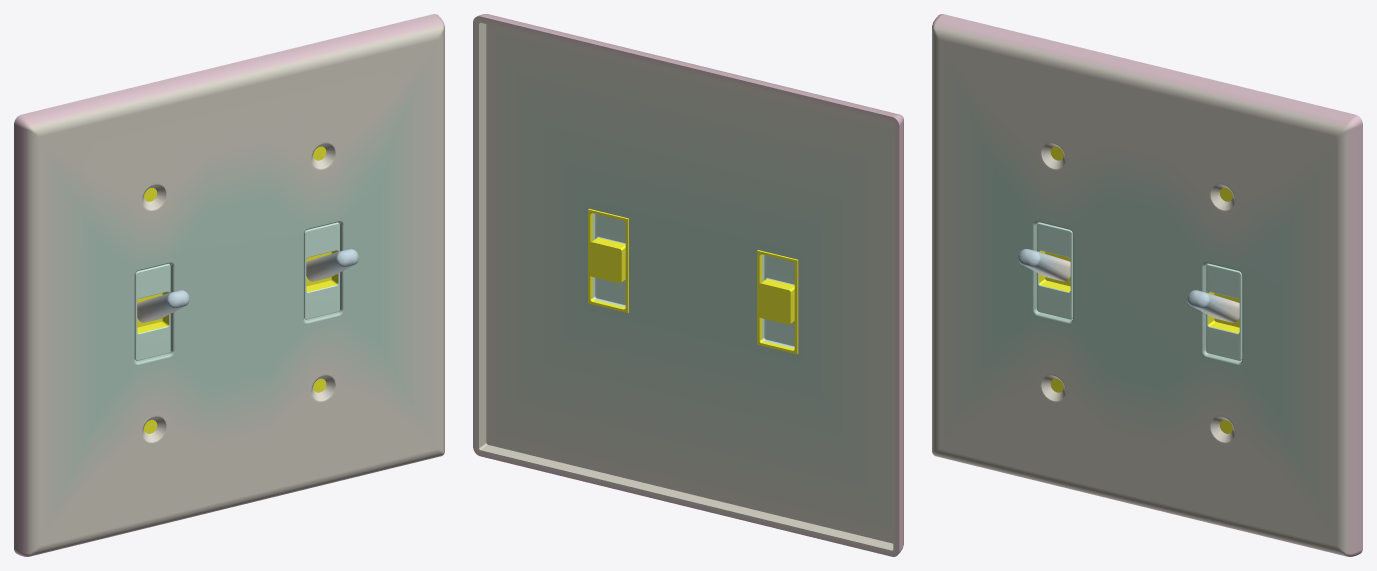
File: Kit_OutletToggle2.fbx
The picture shows the model from 3 angles, left to right: view 1: azimuth 30°, elevation 25°; view 2: azimuth 150°, elevation 25°; view 3: azimuth 330°, elevation 25°; orthographic projection.
Parts seen in each view (by area): view 1: Kit_OutletToggle2_LOD0; view 2: Kit_OutletToggle2_LOD0; view 3: Kit_OutletToggle2_LOD0.
Boxes of the visible parts, x1,y1,x2,y2 form: Kit_OutletToggle2_LOD0: (14,14,444,556); Kit_OutletToggle2_LOD0: (473,14,903,556); Kit_OutletToggle2_LOD0: (932,14,1362,556).
Size of what is drawn, in the model's own units: 0.1159 by 0.1143 by 0.0184.
